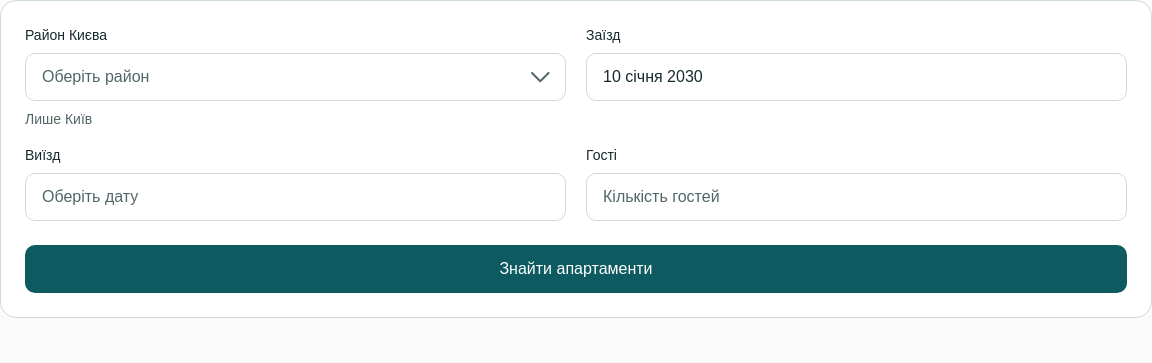
Test: <SearchForm> › requires check-out when check-in is chosen
The image size is (1152, 363).
Click the button "Знайти апартаменти" at (576, 269), box [25, 245, 1127, 293]
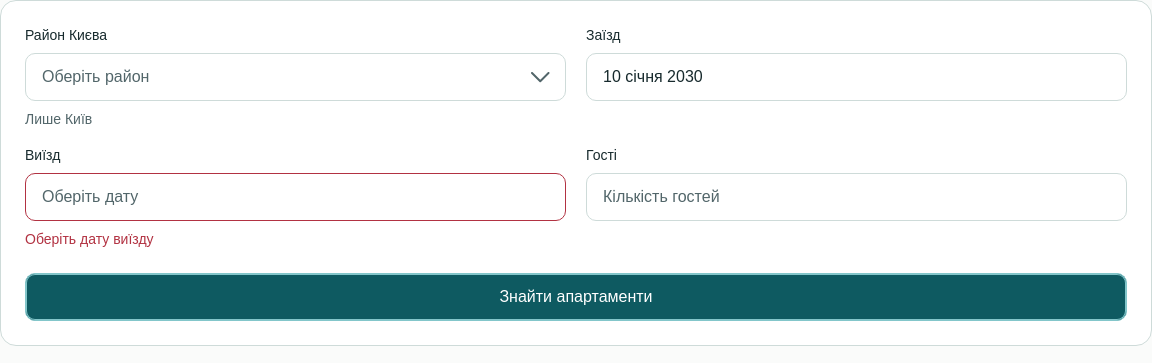
Check: the text "Оберіть дату виїзду" is shown, box [25, 231, 154, 247]
